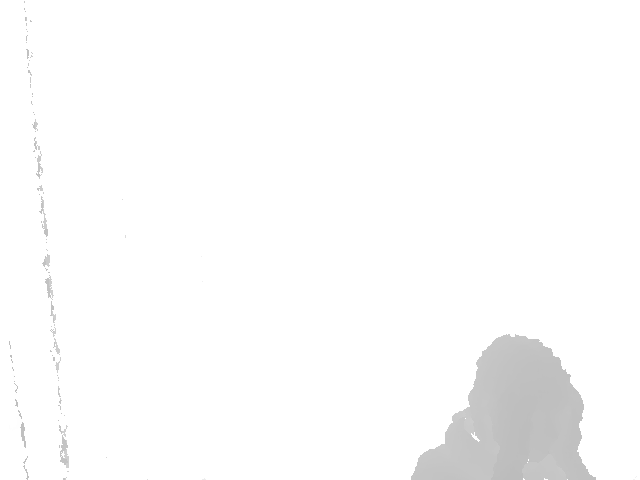head: (471, 334, 573, 450)
person: (409, 334, 600, 480)
